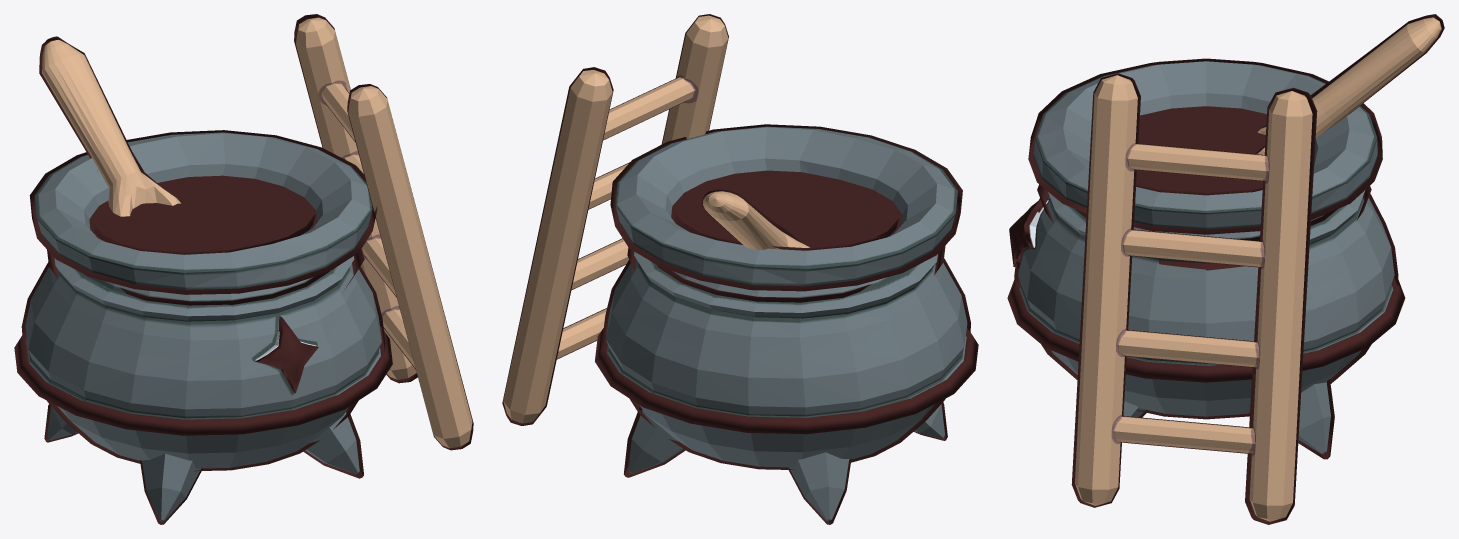
File: 1CauldronwithLines.fbx
The picture shows the model from 3 angles, left to right: view 1: azimuth 30°, elevation 25°; view 2: azimuth 150°, elevation 25°; view 3: azimuth 270°, elevation 25°; orthographic projection. The views are drawn at different scales.
Visible parts, largest first — view 1: Cauldron4, CauldronLines; view 2: Cauldron4, CauldronLines; view 3: Cauldron4, CauldronLines.
Part boxes in pixels (<box>): Cauldron4: <box>25,17,472,521</box>; CauldronLines: <box>14,14,473,524</box>; Cauldron4: <box>503,15,967,521</box>; CauldronLines: <box>502,14,978,524</box>; Cauldron4: <box>1018,17,1441,521</box>; CauldronLines: <box>1007,14,1444,524</box>.
Size of the model in its own units: 23.42 by 20.55 by 20.56.
Materials: 2 (1 with a texture image).
